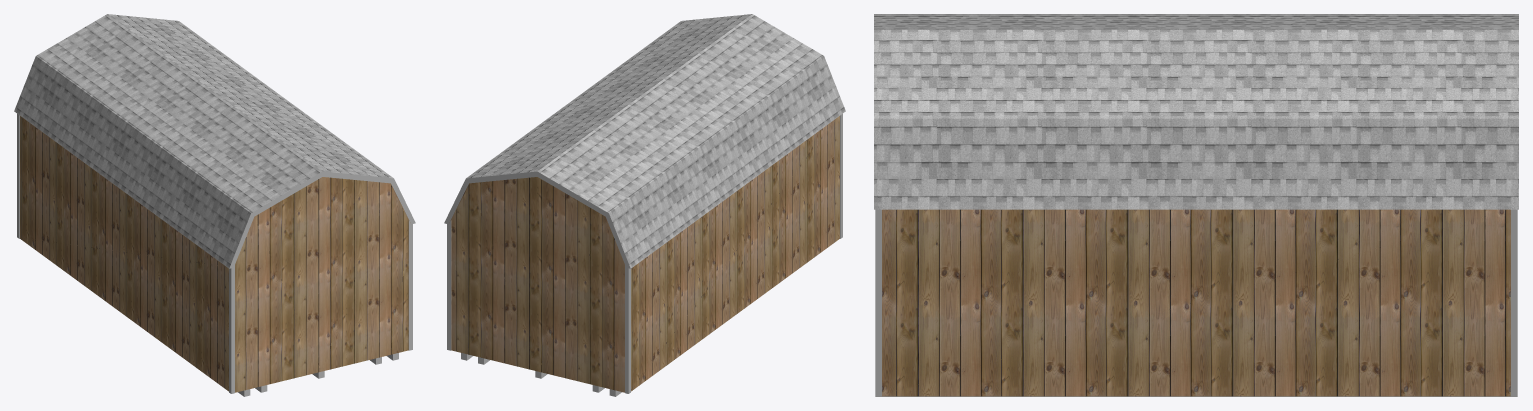
The model's file is Dutch Barn_10x20.obj.
3 views of the same model, side by side, from view 1: azimuth 30°, elevation 25°; view 2: azimuth 150°, elevation 25°; view 3: azimuth 270°, elevation 25° (orthographic). The views are drawn at different scales.
Visible parts, largest first — view 1: Shed, Roof, Trim, Sides; view 2: Shed, Roof, Trim, Sides; view 3: Roof, Shed, Trim, Floor.
Part boxes in pixels (box(x1,y1,x2,y2)): Shed: box(20, 116, 410, 392); Roof: box(14, 14, 393, 268); Trim: box(17, 114, 412, 393); Sides: box(229, 171, 415, 268); Shed: box(449, 116, 839, 392); Roof: box(466, 14, 845, 268); Trim: box(447, 114, 842, 393); Sides: box(444, 171, 630, 268); Roof: box(874, 14, 1518, 209); Shed: box(882, 209, 1510, 396); Trim: box(875, 209, 1517, 396); Floor: box(882, 396, 1510, 396).
Bounding box in the file's own units: 3.08 × 3.27 × 6.15.
